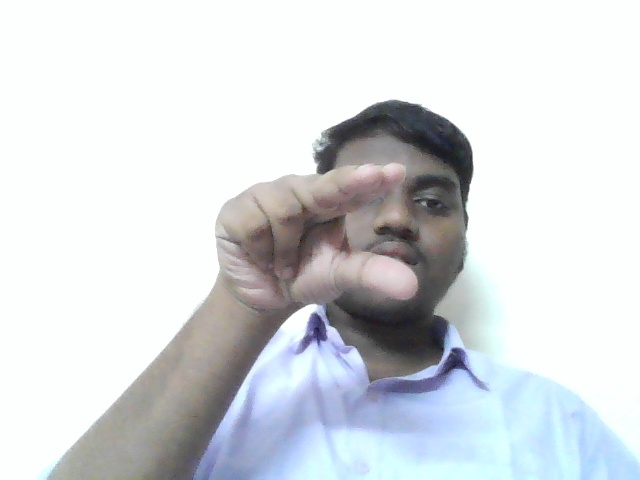No: (195, 157, 452, 313)
